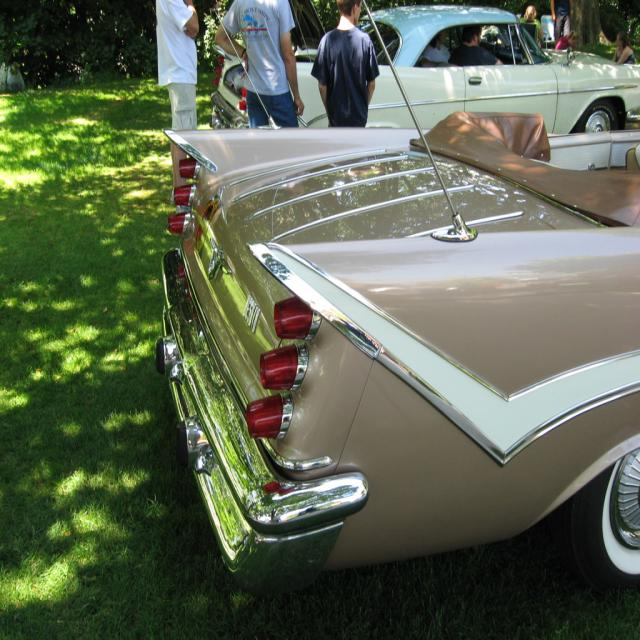car: (143, 73, 639, 598)
